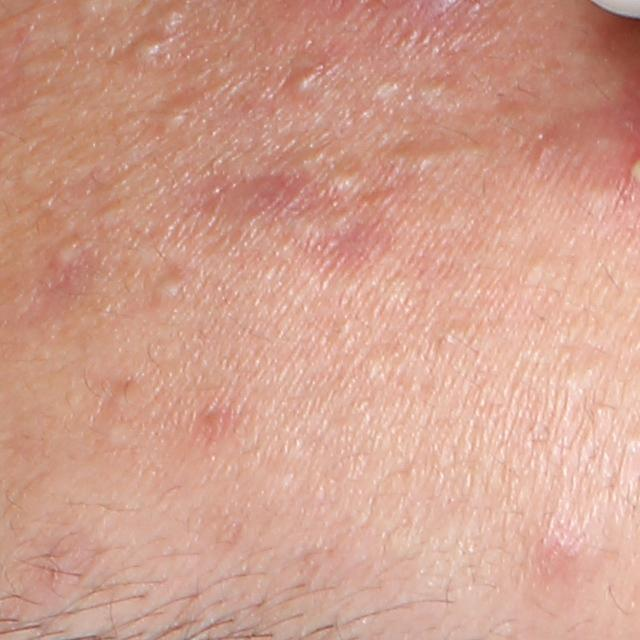comedo: (382, 139, 441, 181), (153, 94, 188, 136), (128, 36, 173, 64), (148, 270, 185, 302), (96, 421, 130, 452), (155, 2, 190, 30), (369, 74, 404, 102), (50, 237, 80, 267), (522, 257, 553, 285)
papule: (532, 524, 587, 577)
